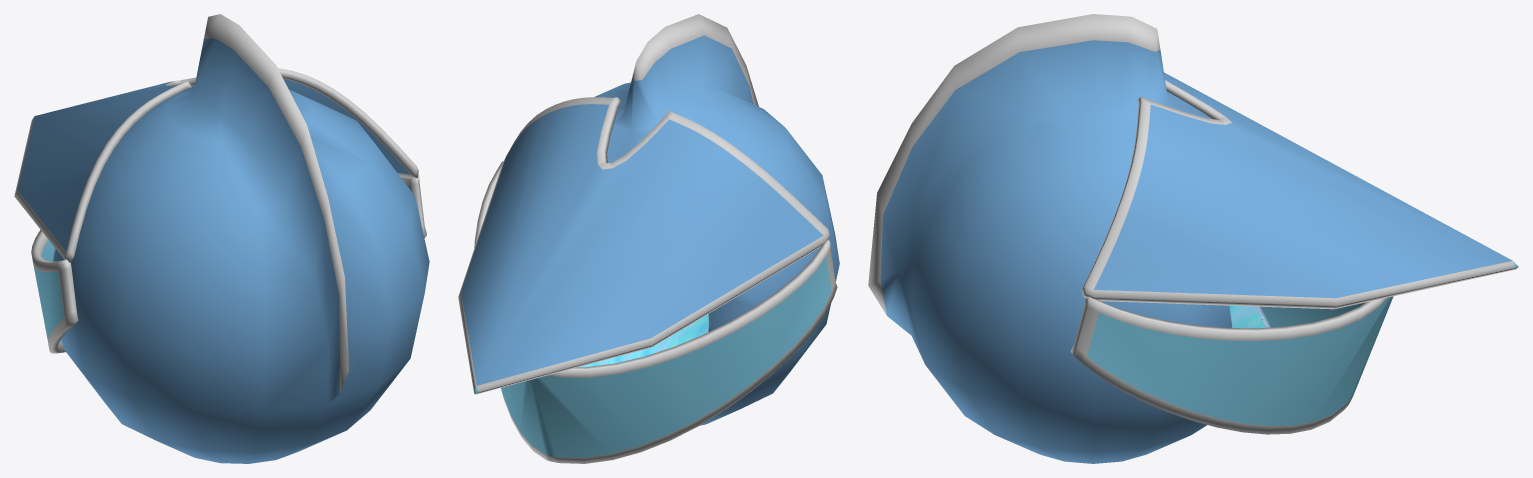
Rendered from helmet.fbx.
3 views of the same model, side by side, from view 1: azimuth 30°, elevation 25°; view 2: azimuth 150°, elevation 25°; view 3: azimuth 270°, elevation 25° (orthographic). The views are drawn at different scales.
Visible parts, largest first — view 1: Sphere, BezierCurve_001, BezierCurve; view 2: BezierCurve_001, BezierCurve, Sphere; view 3: Sphere, BezierCurve_001, BezierCurve.
Part boxes in pixels (box(x1,y1,x2,y2)): Sphere: box(52, 14, 429, 463); BezierCurve_001: box(14, 68, 418, 262); BezierCurve: box(31, 173, 426, 353); BezierCurve_001: box(458, 97, 829, 394); BezierCurve: box(474, 161, 837, 463); Sphere: box(579, 14, 839, 425); Sphere: box(868, 14, 1270, 463); BezierCurve_001: box(1081, 72, 1518, 309); BezierCurve: box(1070, 296, 1393, 434).
Size of the model in its own units: 2.15 by 2.42 by 3.31.
